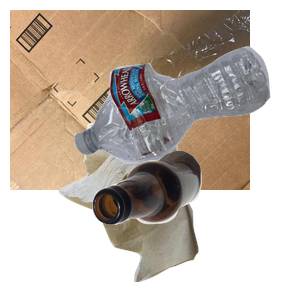cardboard: (10, 10, 250, 190)
glass: (90, 148, 300, 300)
plastic: (72, 44, 300, 200)
trash: (56, 120, 247, 300)
